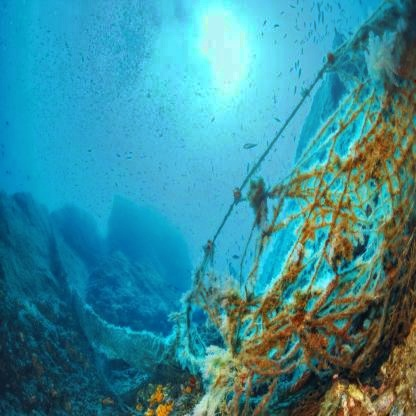net: (208, 33, 416, 416)
